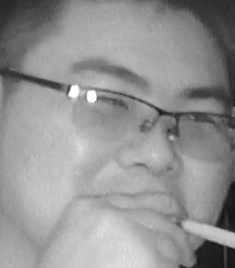glass: (75, 85, 159, 145), (176, 109, 235, 163)
